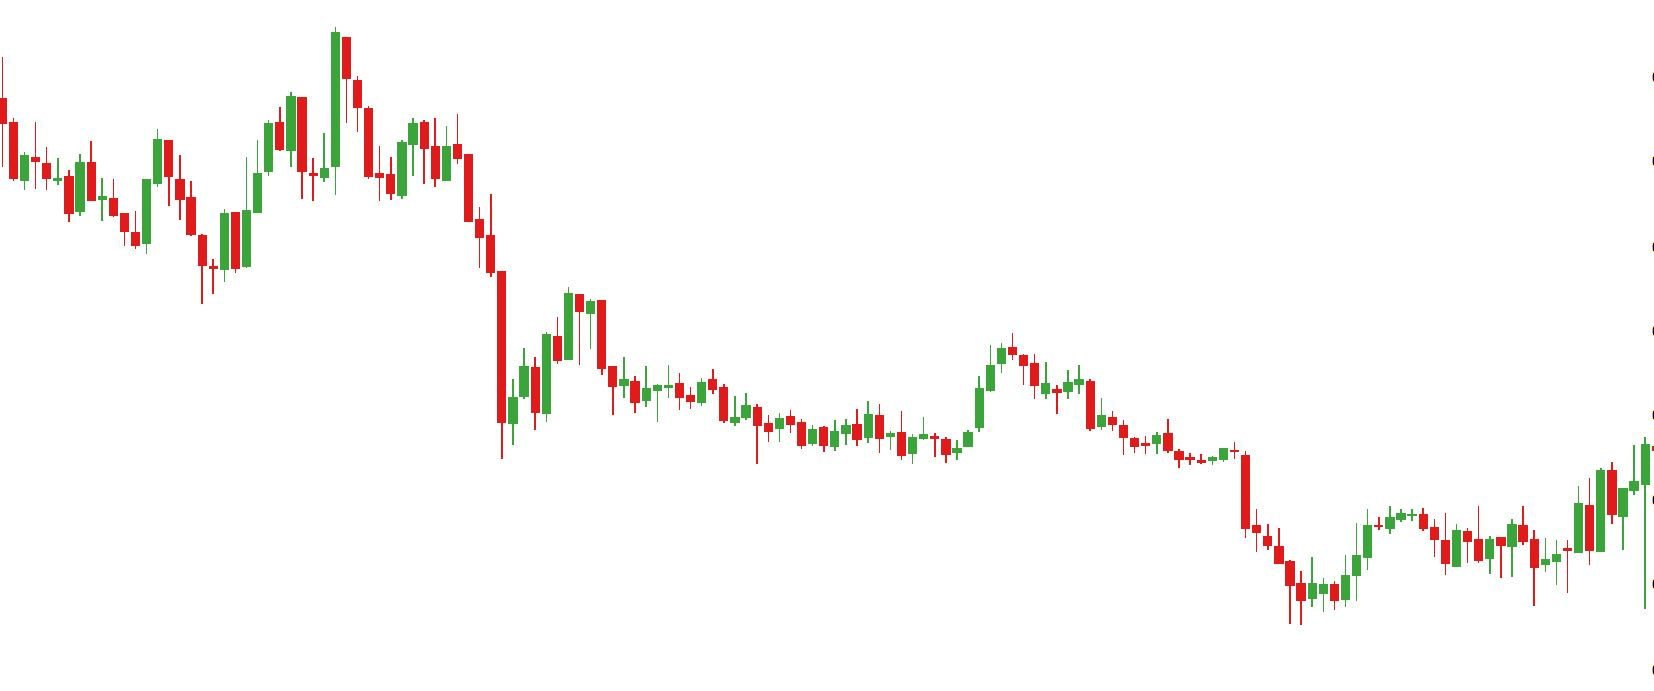sell: (285, 13, 365, 147), (86, 108, 175, 218)
